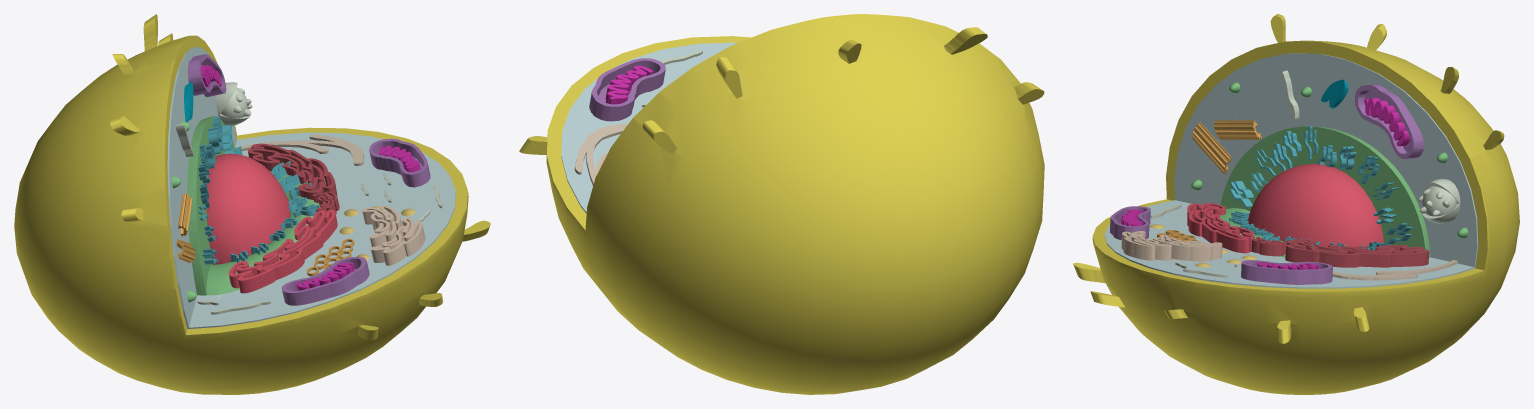
File: 12stem3_group_2_-_animal_cell.glb
3 views of the same model, side by side, from view 1: azimuth 30°, elevation 25°; view 2: azimuth 150°, elevation 25°; view 3: azimuth 270°, elevation 25° (orthographic). The views are drawn at different scales.
Parts seen in each view (by area): view 1: Mesh_Mesh_head_geo.001_lambert2SG.001_0; view 2: Mesh_Mesh_head_geo.001_lambert2SG.001_0; view 3: Mesh_Mesh_head_geo.001_lambert2SG.001_0.
Part boxes in pixels (box(x1,y1,x2,y2)): Mesh_Mesh_head_geo.001_lambert2SG.001_0: box(14, 14, 490, 394); Mesh_Mesh_head_geo.001_lambert2SG.001_0: box(519, 14, 1044, 394); Mesh_Mesh_head_geo.001_lambert2SG.001_0: box(1073, 14, 1519, 394).
Size of the model in its own units: 38.26 by 28.56 by 37.34.
